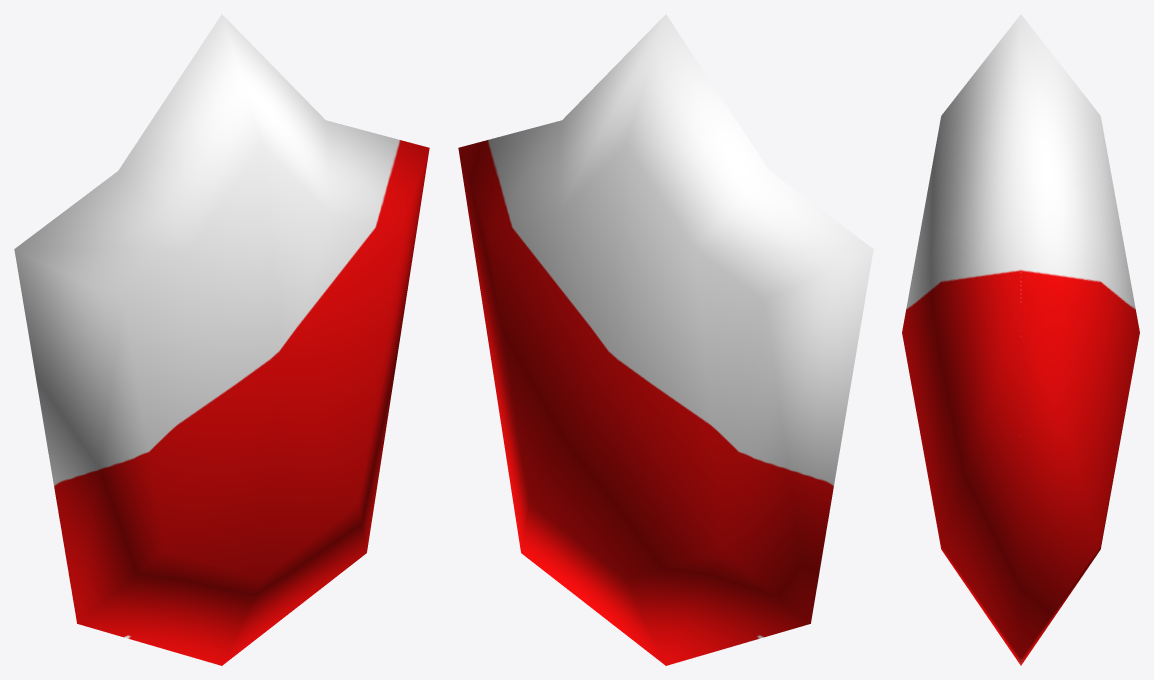
The model's file is sheild.FBX.
The picture shows the model from 3 angles, left to right: view 1: azimuth 30°, elevation 25°; view 2: azimuth 150°, elevation 25°; view 3: azimuth 270°, elevation 25°; orthographic projection.
Visible parts, largest first — view 1: sheild; view 2: sheild; view 3: sheild.
Boxes of the visible parts, x1,y1,x2,y2 form: sheild: (14, 14, 429, 665); sheild: (458, 14, 873, 665); sheild: (902, 14, 1139, 665).
Bounding box in the file's own units: 30.07 × 45.1 × 14.92.
1 material, 1 textured.
